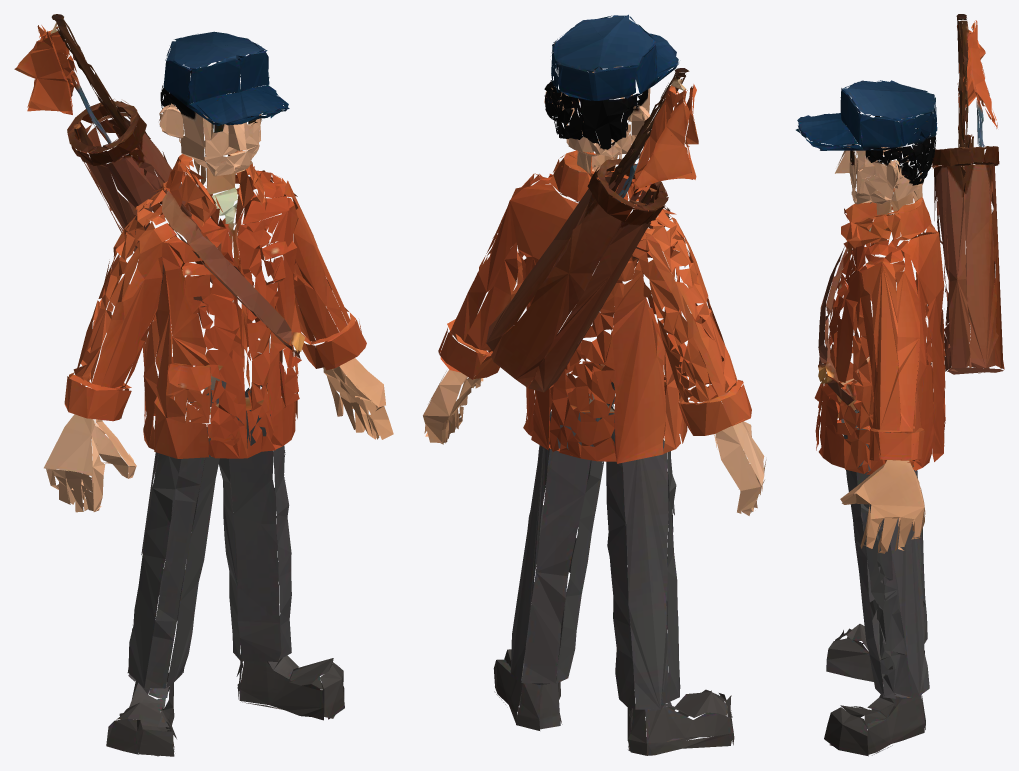
File: habitant.glb
3 views of the same model, side by side, from view 1: azimuth 30°, elevation 25°; view 2: azimuth 150°, elevation 25°; view 3: azimuth 270°, elevation 25° (orthographic). The views are drawn at different scales.
Visible parts, largest first — view 1: world; view 2: world; view 3: world.
Part boxes in pixels (bbox=[...]): world: bbox=[14, 14, 393, 756]; world: bbox=[423, 14, 766, 755]; world: bbox=[796, 14, 1004, 756].
Size of the model in its own units: 0.4918 by 1 by 0.2971.
Materials: 1 (1 with a texture image).
